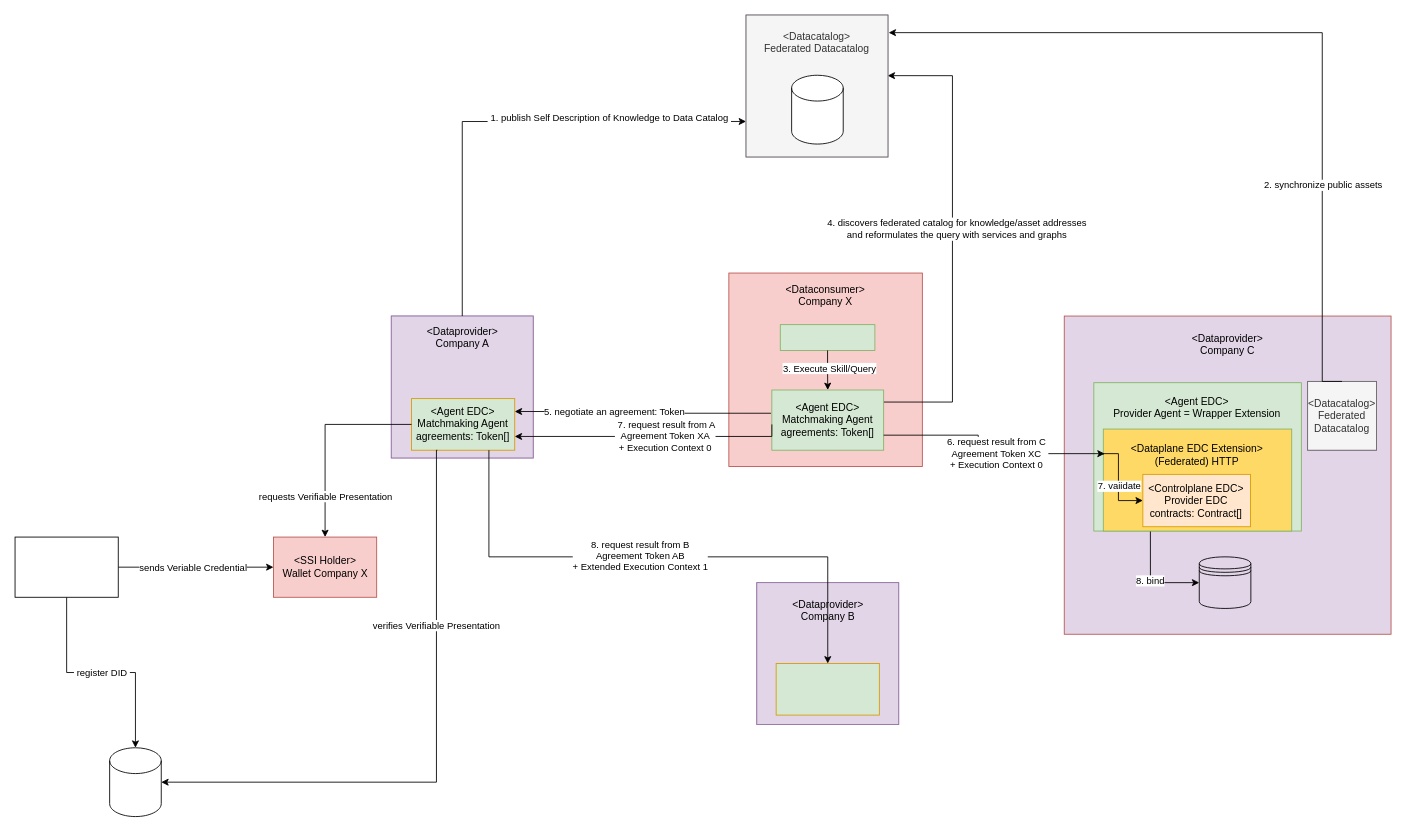
This 1409x832 diagram has some shape labels left out. The centre of each missing label's shape, as x and y in pixels:
"<Agent EDC> Provider Agent" belongs at (827,689).
"<SSI Issuer> Certified Issuer CX" belongs at (66,566).
"App" belongs at (827,337).
"Backend" belongs at (1224,582).
"DLT Registry" belongs at (135,782).
"local node" belongs at (817,109).
